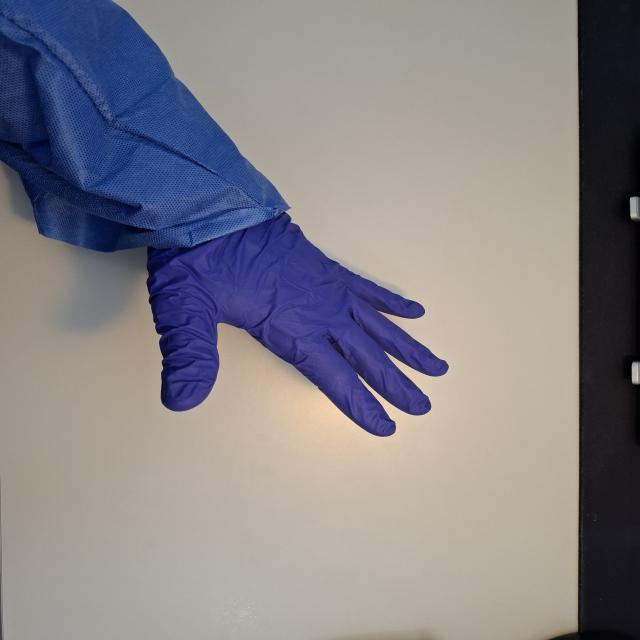glove_on: (142, 204, 453, 439)
